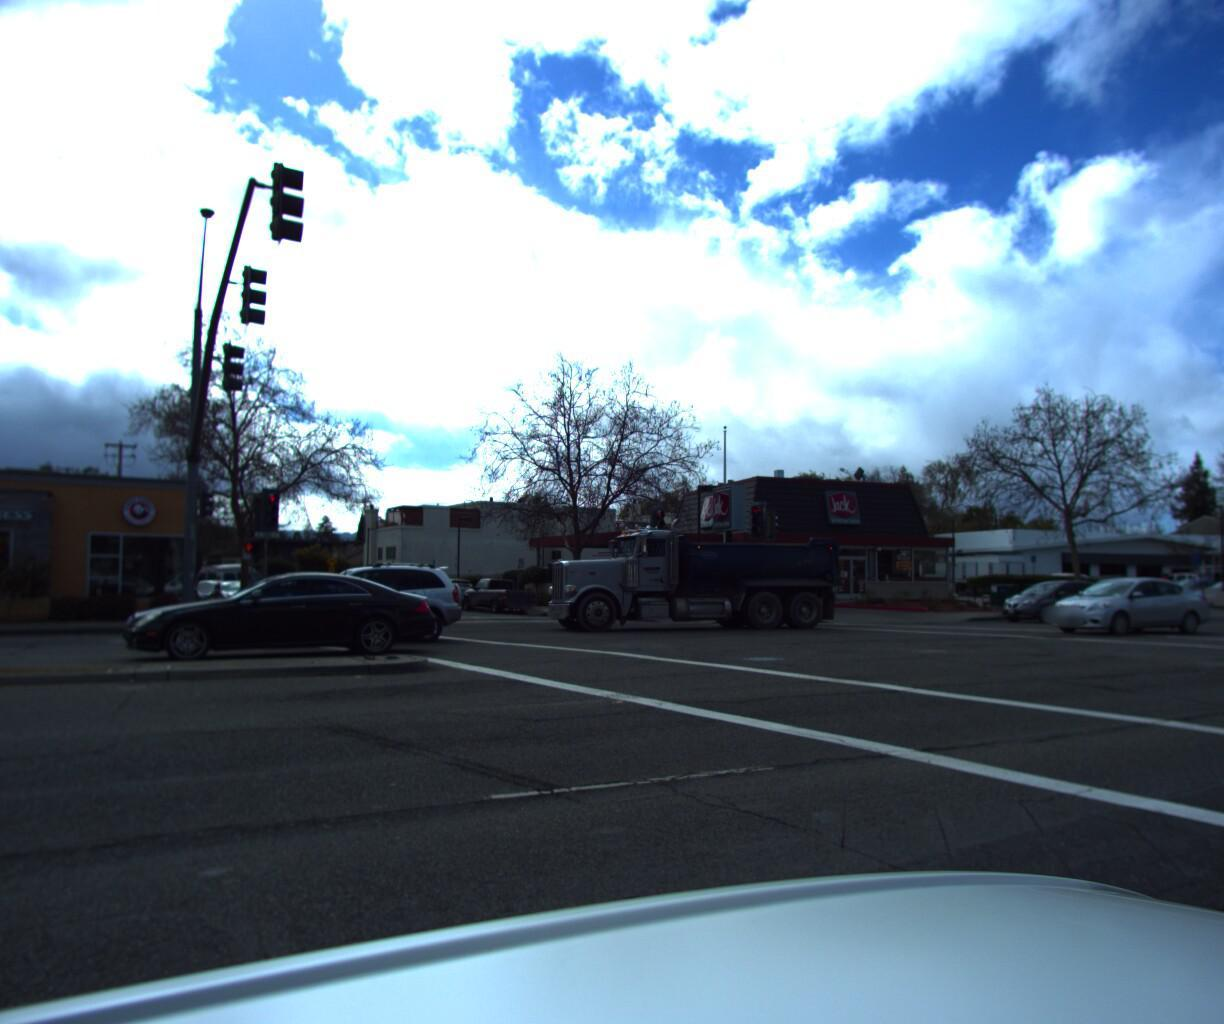car: (122, 575, 441, 674), (229, 563, 474, 652), (1048, 576, 1219, 637), (992, 580, 1118, 624), (1176, 579, 1224, 690), (457, 581, 541, 620), (197, 570, 277, 604), (415, 581, 482, 615), (207, 587, 268, 618), (186, 585, 241, 613)
truck: (544, 523, 855, 640)
